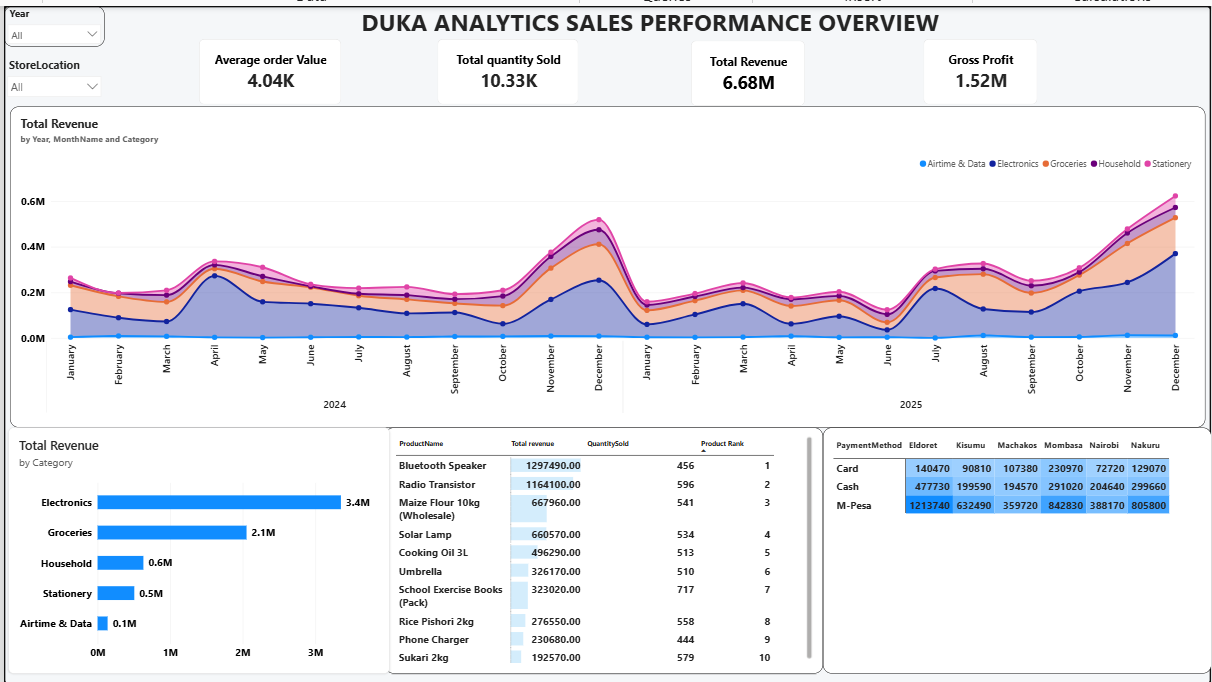

What the dashboard file says about the page in this screenshot:
{"tool":"powerbi","page":{"name":"Product and Sales Performance","canvas":[1920,1080],"ordinal":3},"visuals":[{"type":"stackedAreaChart","fields":{"Category":["DimCalendar.Year","DimCalendar.MonthName"],"Series":["DimProduct.Category"],"Y":["Table.Total revenue"]},"box":[9.5,159.9,1901.6,510.6],"z":0},{"type":"tableEx","fields":{"Values":["DimProduct.ProductName","Table.Total revenue","Sum(FactSales.QuantitySold)","Table.Product Rank"]},"box":[606,670.4,696.7,391.3],"z":1000},{"type":"pivotTable","fields":{"Columns":["FactSales.StoreLocation"],"Rows":["FactSales.PaymentMethod"],"Values":["Table.Total revenue"]},"box":[1302.7,670.4,618,391.3],"z":2000},{"type":"barChart","fields":{"Category":["DimProduct.Category"],"Y":["Measures_table.Total Revenue"]},"box":[7.2,670.4,606,391.3],"z":3000},{"type":"textbox","box":[310.2,0,1436.3,52.5],"z":4000},{"type":"slicer","fields":{"Values":["DimCalendar.Year"]},"box":[0,0,159.9,64.4],"z":5000},{"type":"slicer","fields":{"Values":["FactSales.StoreLocation"]},"box":[0,81.1,159.9,78.7],"z":6000},{"type":"cardVisual","fields":{"Data":["Measures_table.Total quantity Sold"]},"box":[689.5,52.5,224.3,105],"z":7000},{"type":"cardVisual","fields":{"Data":["Measures_table.Total Revenue"]},"box":[1092.7,54.9,181.3,105],"z":8000},{"type":"cardVisual","fields":{"Data":["Measures_table.Gross Profit"]},"box":[1462.6,52.5,181.3,105],"z":9000},{"type":"cardVisual","fields":{"Data":["Measures_table.Average order Value"]},"box":[310.2,52.5,226.7,105],"z":10000}]}

Visuals, with their boxes in screenshot pixels (x1, y1, x2, y2), scaled from the page's 1920x1080 canvas onto the 1212x682 screenshot:
stackedAreaChart - DimCalendar.Year x DimCalendar.MonthName: bbox=[6, 101, 1206, 423]
tableEx - DimProduct.ProductName x Table.Total revenue: bbox=[383, 423, 822, 670]
pivotTable - FactSales.StoreLocation x FactSales.PaymentMethod: bbox=[822, 423, 1211, 670]
barChart - DimProduct.Category x Measures_table.Total Revenue: bbox=[5, 423, 387, 670]
textbox: bbox=[196, 0, 1102, 33]
slicer - DimCalendar.Year: bbox=[0, 0, 101, 41]
slicer - FactSales.StoreLocation: bbox=[0, 51, 101, 101]
cardVisual - Measures_table.Total quantity Sold: bbox=[435, 33, 577, 99]
cardVisual - Measures_table.Total Revenue: bbox=[690, 35, 804, 101]
cardVisual - Measures_table.Gross Profit: bbox=[923, 33, 1038, 99]
cardVisual - Measures_table.Average order Value: bbox=[196, 33, 339, 99]
